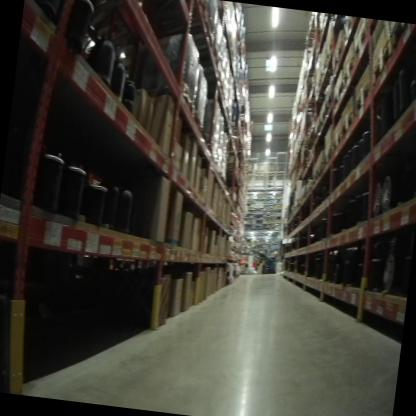pallet: (372, 39, 416, 92), (342, 110, 383, 144), (324, 131, 349, 164), (352, 83, 374, 119), (342, 56, 361, 90), (384, 25, 416, 44), (354, 30, 372, 51), (332, 82, 348, 104)
